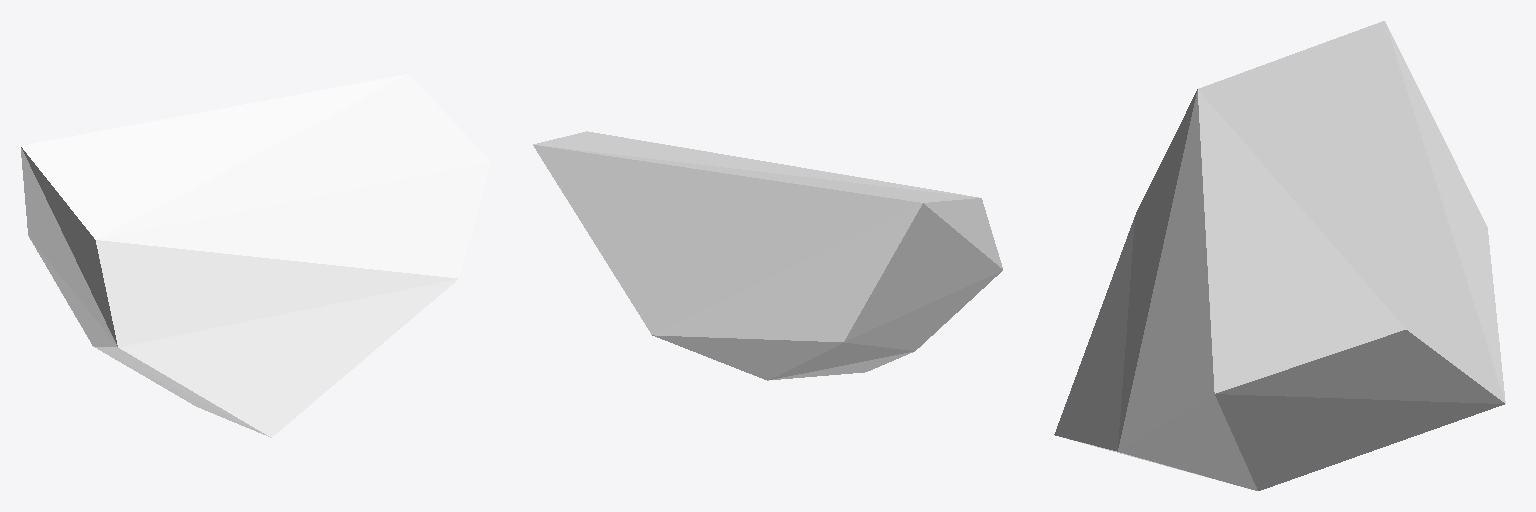
URDF robot description (solo_LHleg_rom):
<robot name="solo_LHleg_rom">
  <link name="base_link">
    <visual>
      <origin xyz="0 0 0" rpy="0 0 0" />
      <geometry>
        <mesh filename="package://solo-rbprm/meshes/HLleg_rom_reduced.stl"/>
      </geometry>
      <material name="white">
        <color rgba="1 1 1 1"/>
      </material>
    </visual>
    <collision>
      <origin xyz="0 0 0" rpy="0 0 0" />
      <geometry>
        <mesh filename="package://solo-rbprm/meshes/HLleg_rom_reduced.stl"/>
      </geometry>
    </collision>
  </link>
</robot>

--- What the picture shows (computed from the rendered views, not written in the file) ---
Views: 3 orthographic renders of the robot side by side, from view 1: azimuth 30°, elevation 25°; view 2: azimuth 150°, elevation 25°; view 3: azimuth 270°, elevation 25°.
Robot: solo_LHleg_rom — 1 links, 0 joints (none); root link base_link; default pose: all joints at 0.
Links seen in each view (by area): view 1: base_link; view 2: base_link; view 3: base_link.
Link boxes in pixels (x1,y1,x2,y2): base_link: (21,74,490,437); base_link: (533,131,1002,380); base_link: (1054,21,1505,490).
Bounding box of the posed robot: 0.4322 × 0.2993 × 0.2488 m (x, y, z).
Meshes: 1 distinct files referenced, 1 mesh visuals loaded (1 binary STL).